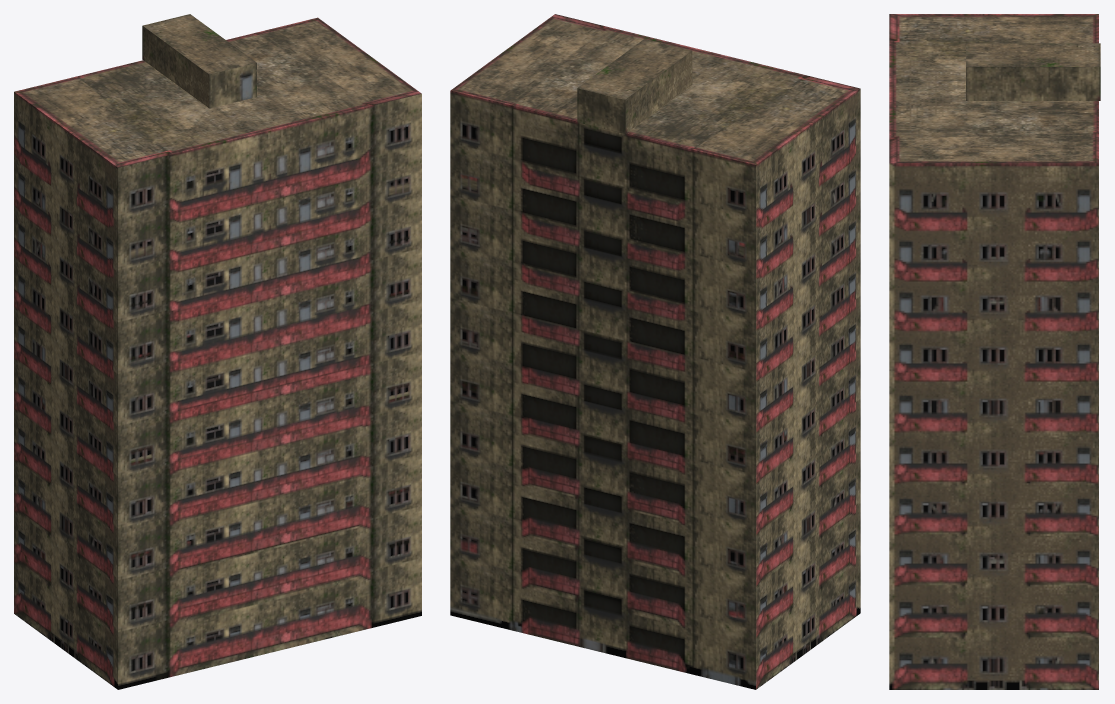
File: Tower01.FBX
3 renders of one model, left to right at view 1: azimuth 30°, elevation 25°; view 2: azimuth 150°, elevation 25°; view 3: azimuth 270°, elevation 25°, orthographic.
Visible parts, largest first — view 1: Tower01; view 2: Tower01; view 3: Tower01.
Boxes of the visible parts, <box> form: Tower01: <box>14,14,421,689</box>; Tower01: <box>450,14,860,689</box>; Tower01: <box>889,14,1100,689</box>.
Size of the model in its own units: 3180 by 5562 by 1901.
Materials: 1 (1 with a texture image).
